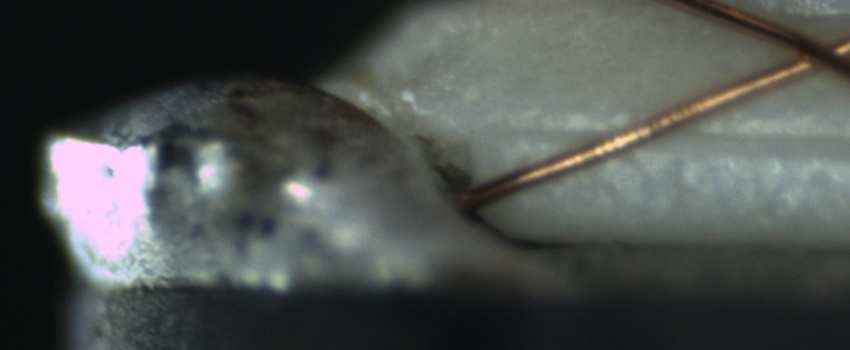CL: (768, 20, 849, 82)
DL: (506, 106, 848, 165)
